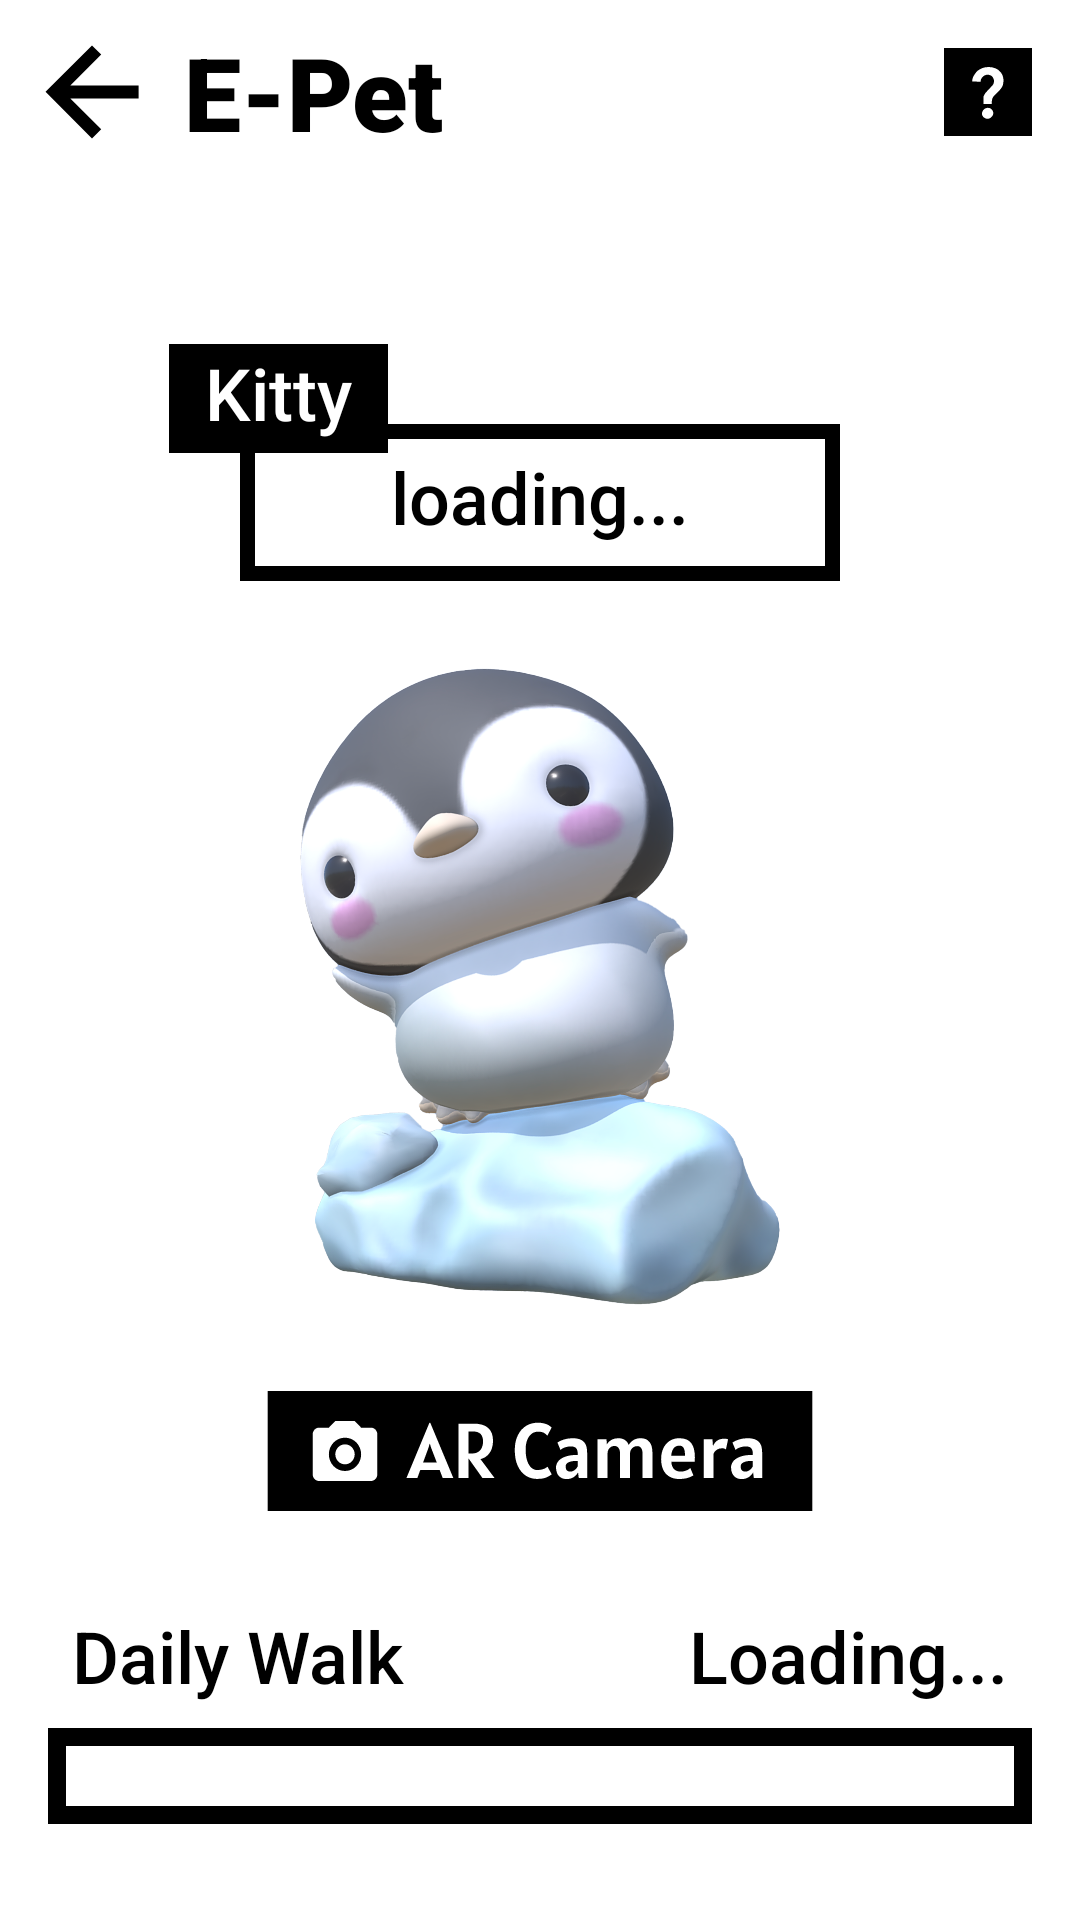

Where to tap for icons on this 1080x1920 app screen, as point (x, y):
arrow back: point (92, 92)
